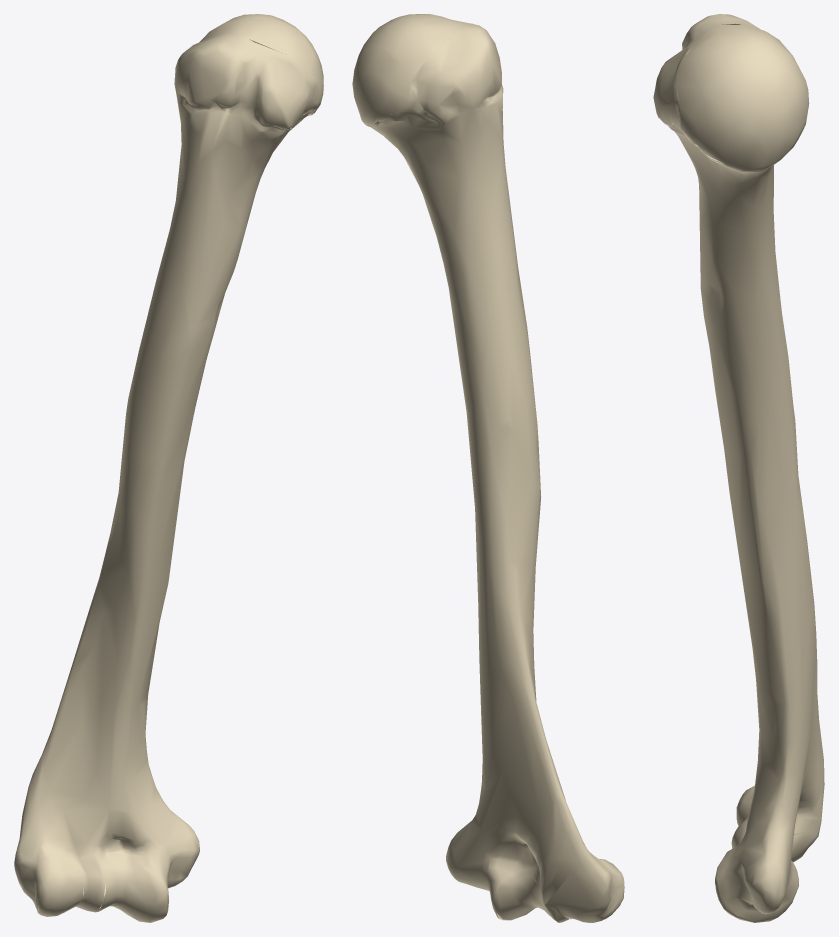
The model's file is esqueleto-humerus-r.glb.
3 views of the same model, side by side, from view 1: azimuth 30°, elevation 25°; view 2: azimuth 150°, elevation 25°; view 3: azimuth 270°, elevation 25° (orthographic). The views are drawn at different scales.
Visible parts, largest first — view 1: Humerus.r; view 2: Humerus.r; view 3: Humerus.r.
Part boxes in pixels (left/top/right/bottom): Humerus.r: left=14, top=14, right=323, bottom=922; Humerus.r: left=352, top=14, right=624, bottom=922; Humerus.r: left=653, top=14, right=824, bottom=922.
Size of the model in its own units: 0.1042 by 0.3173 by 0.0524.
